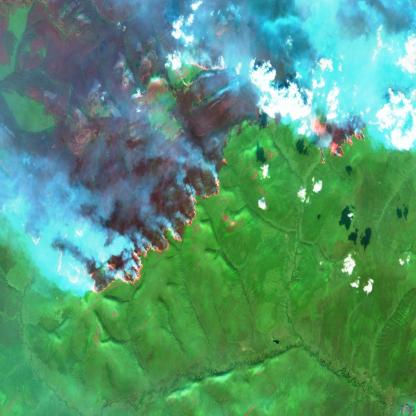fire: (0, 155, 229, 294), (180, 49, 416, 164)
